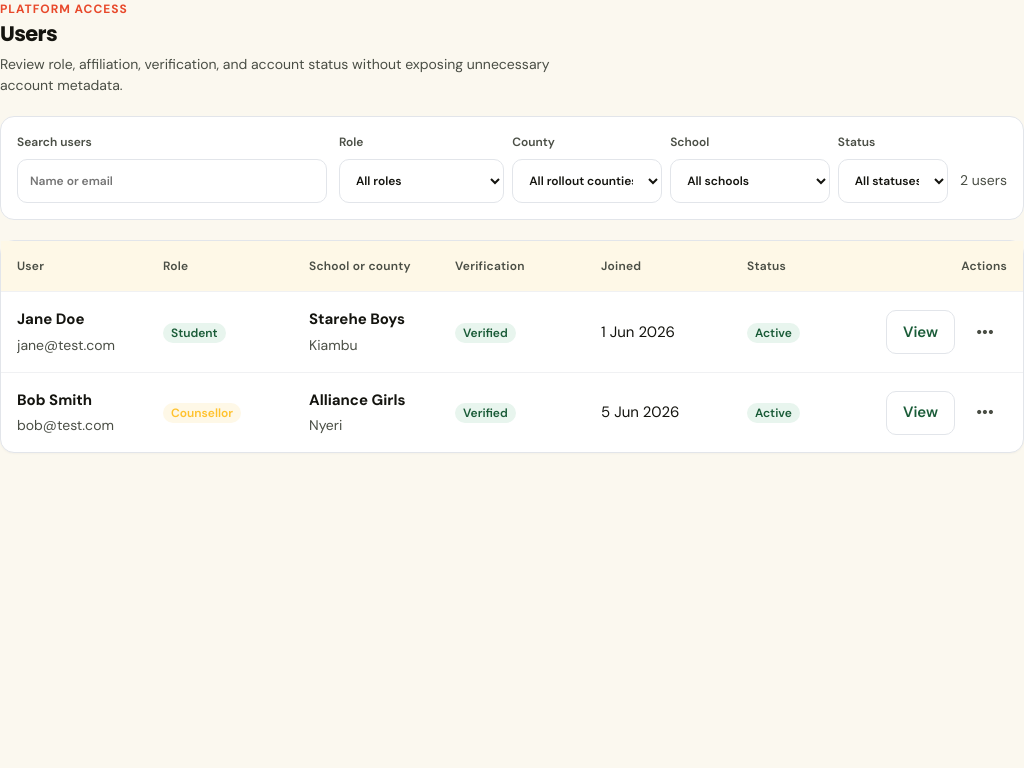
it: SystemAdminUsersPage › coordinates users with decision fields, details, overflow actions, and confirmation
Expected: the table named "Platform users" is shown, [1,241,1023,452]
Expected: the heading "Users" is shown, [0,19,57,48]
Click the button with aria-label "View Jane Doe": (920,332) [886,310,955,354]
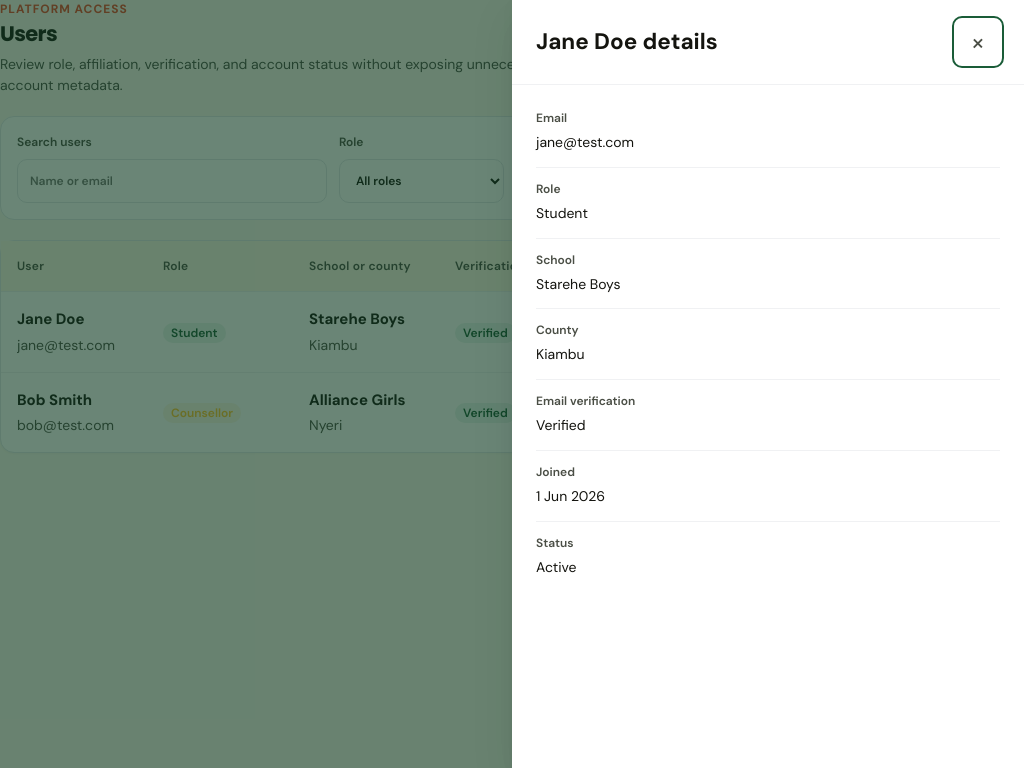
Expected: the dialog "Jane Doe details" shows "jane@test.com", [536,133,634,151]
Expected: the dialog "Jane Doe details" shows "Starehe Boys", [536,275,620,293]
Click the button named "Close details": (978,42) [956,20,1000,64]
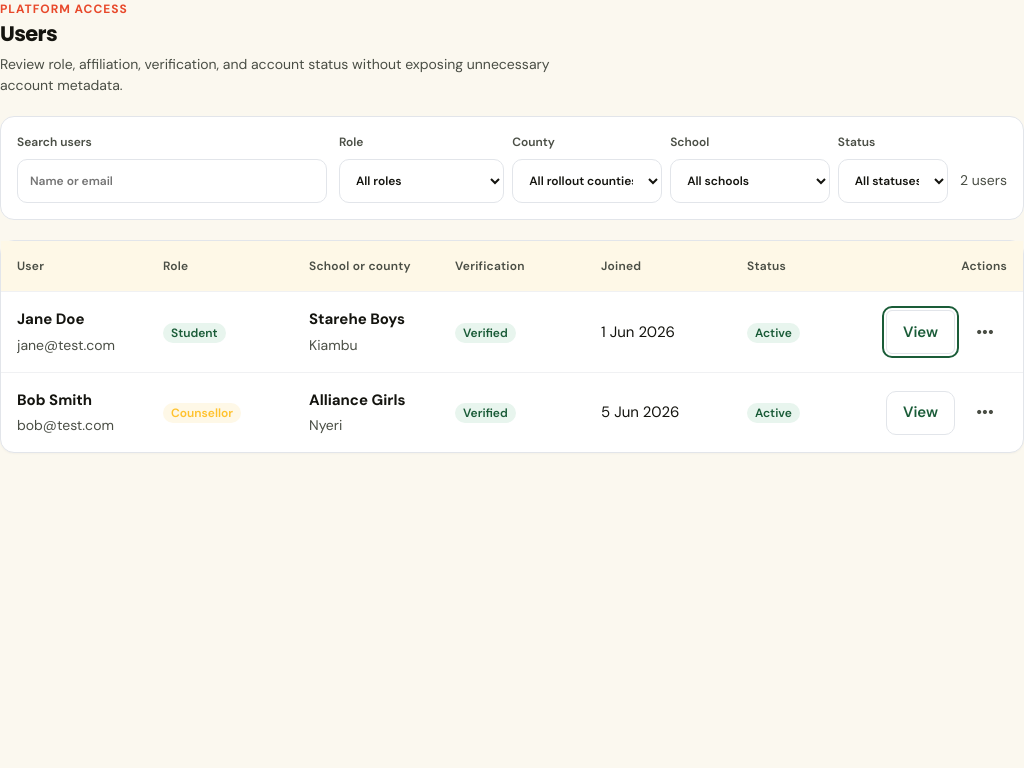
Click the button named "More actions for Jane Doe": (985,332) [963,310,1007,354]
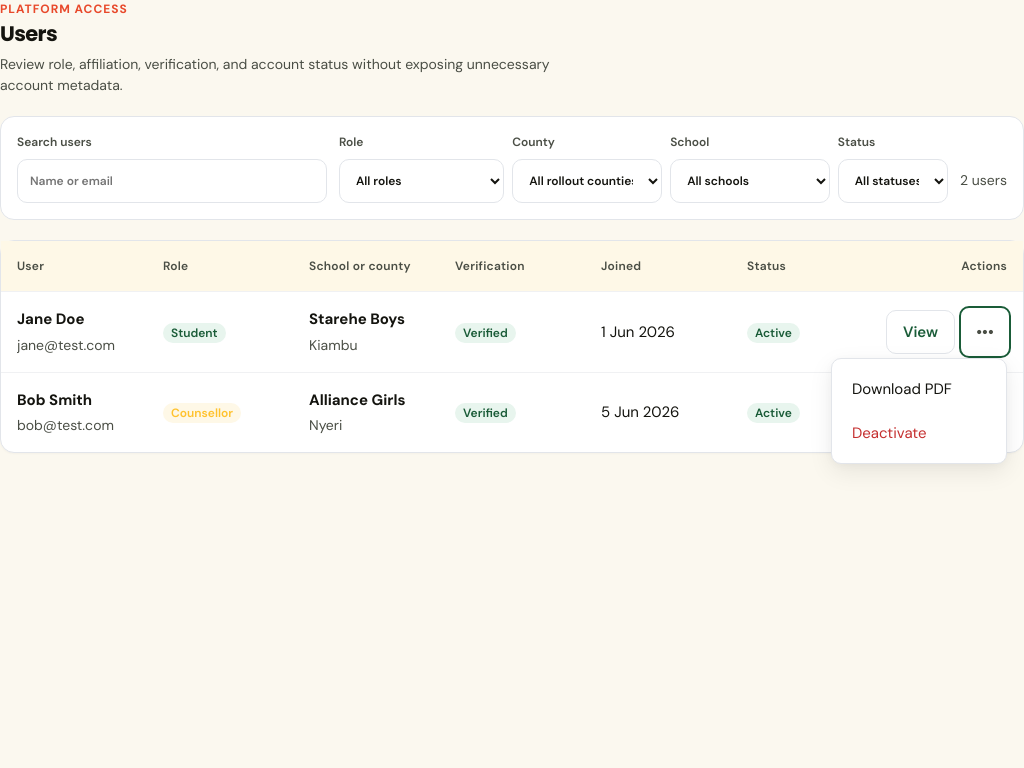
Expected: the menu item "Download PDF" is shown, [840,367,998,411]
Click the menu item "Deactivate": (919,433) [840,411,998,455]
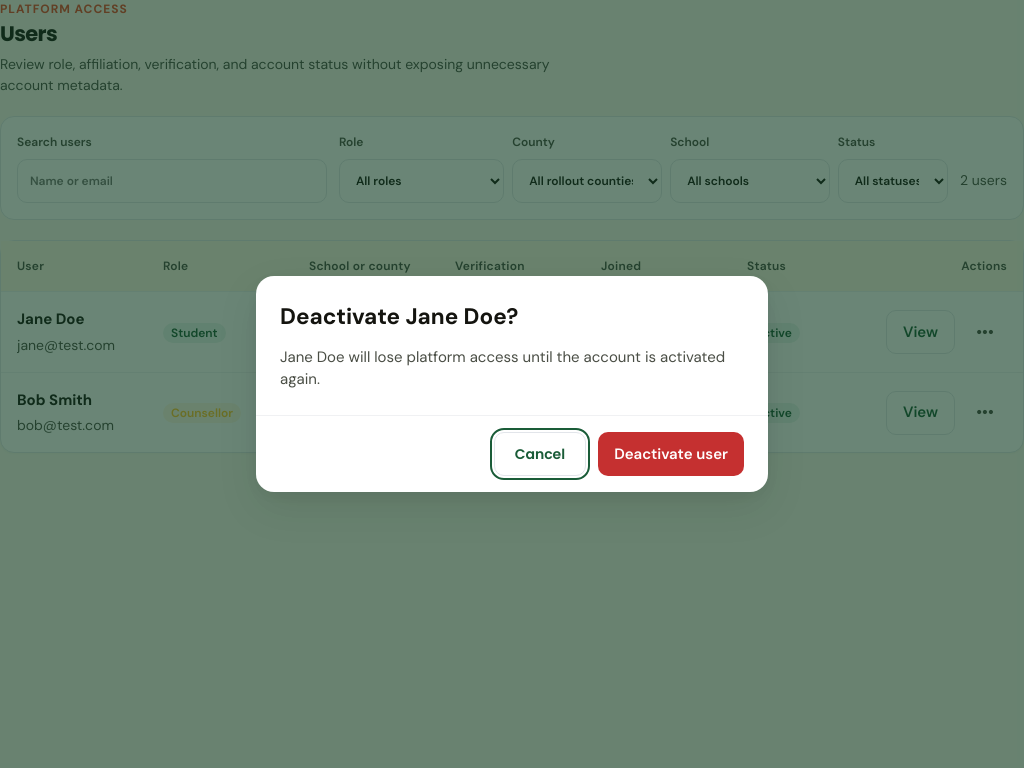
Expected: the dialog "Deactivate Jane Doe?" is shown, [256,276,768,492]
